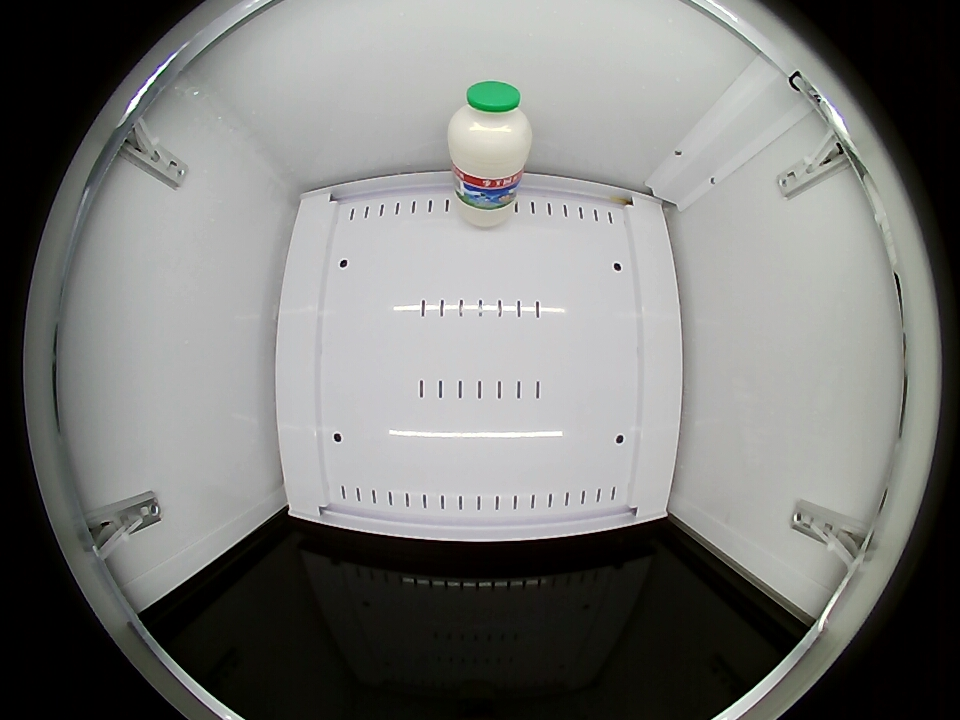liziyuan: (447, 80, 532, 184)
